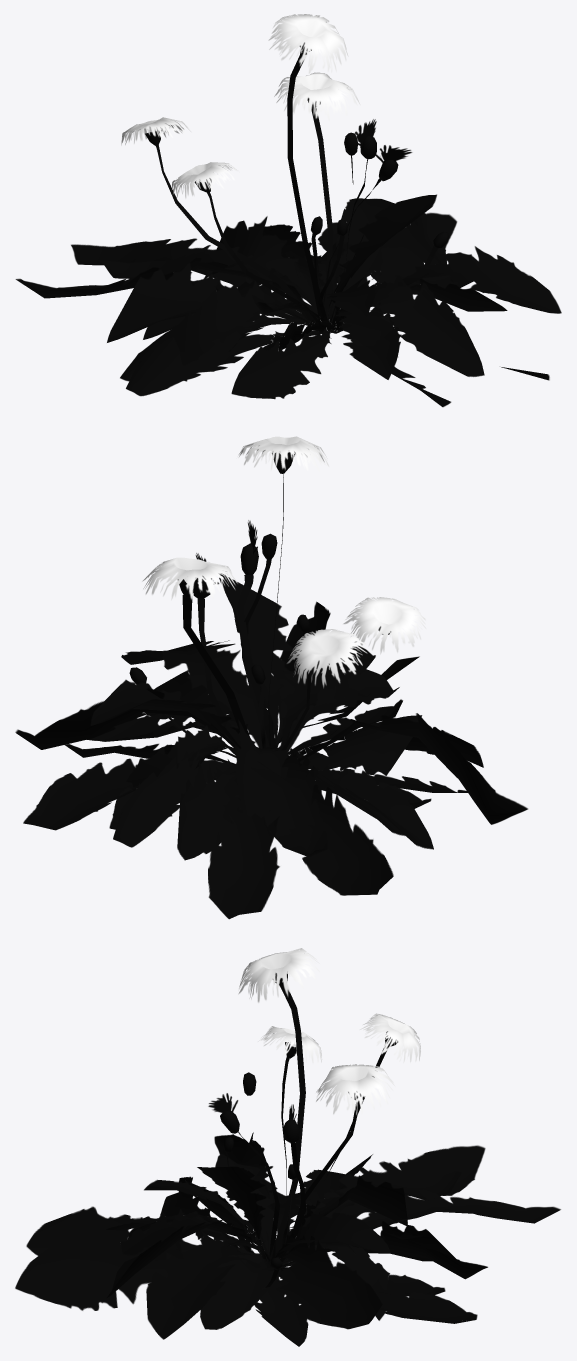
File: dandelion.glb
The picture shows the model from 3 angles, top to bottom: view 1: azimuth 30°, elevation 25°; view 2: azimuth 150°, elevation 25°; view 3: azimuth 270°, elevation 25°; orthographic projection. The views are drawn at different scales.
Parts seen in each view (by area): view 1: dandelion_01_b_LOD2, dandelion_01_a_LOD2, dandelion_01_e_LOD2, dandelion_01_c_LOD2, dandelion_01_d_LOD2; view 2: dandelion_01_a_LOD2, dandelion_01_b_LOD2, dandelion_01_e_LOD2, dandelion_01_c_LOD2, dandelion_01_d_LOD2; view 3: dandelion_01_a_LOD2, dandelion_01_b_LOD2, dandelion_01_e_LOD2, dandelion_01_c_LOD2, dandelion_01_d_LOD2.
Boxes of the visible parts, x1=… form: dandelion_01_b_LOD2: x1=15, y1=72, x2=507, y2=406; dandelion_01_a_LOD2: x1=71, y1=14, x2=561, y2=395; dandelion_01_e_LOD2: x1=99, y1=212, x2=483, y2=406; dandelion_01_c_LOD2: x1=219, y1=119, x2=473, y2=379; dandelion_01_d_LOD2: x1=243, y1=216, x2=449, y2=350; dandelion_01_a_LOD2: x1=23, y1=436, x2=483, y2=919; dandelion_01_b_LOD2: x1=23, y1=520, x2=458, y2=895; dandelion_01_e_LOD2: x1=15, y1=656, x2=527, y2=857; dandelion_01_c_LOD2: x1=87, y1=553, x2=431, y2=860; dandelion_01_d_LOD2: x1=64, y1=664, x2=402, y2=859; dandelion_01_a_LOD2: x1=15, y1=948, x2=560, y2=1339; dandelion_01_b_LOD2: x1=26, y1=1026, x2=486, y2=1329; dandelion_01_e_LOD2: x1=27, y1=1132, x2=461, y2=1329; dandelion_01_c_LOD2: x1=106, y1=1104, x2=455, y2=1346; dandelion_01_d_LOD2: x1=162, y1=1154, x2=452, y2=1303.
Size of the model in its own units: 0.2202 by 0.1657 by 0.2577.
Materials: 1 (1 with a texture image).
